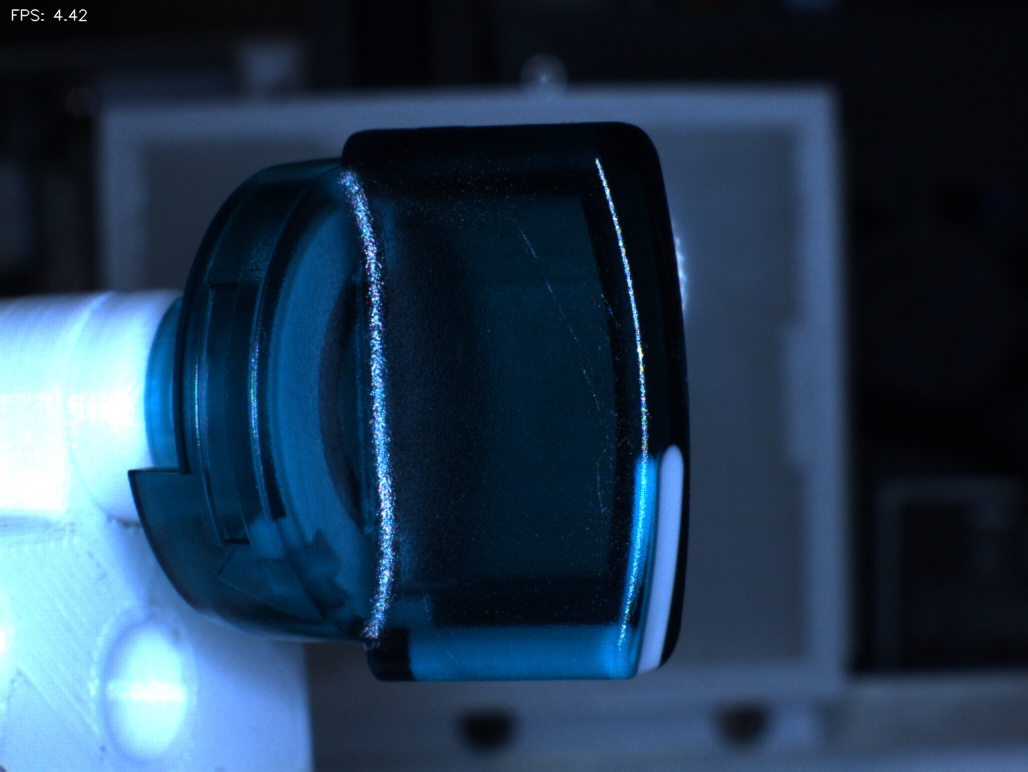Givrage: (506, 204, 629, 440)
